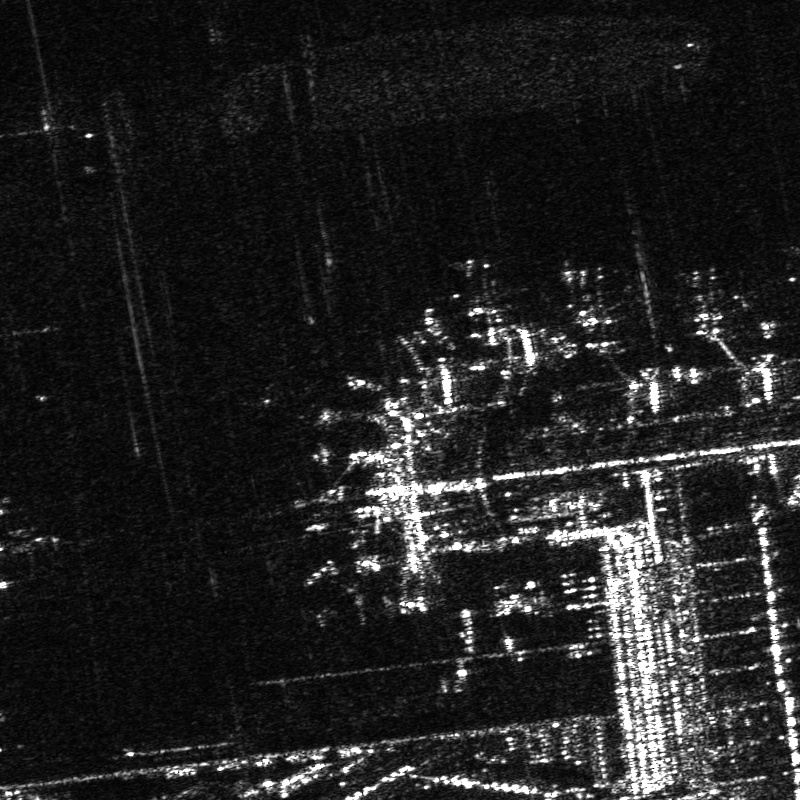A220: (442, 258, 528, 340), (668, 261, 749, 338), (555, 265, 624, 337)
Boeing737: (311, 575, 370, 629)
